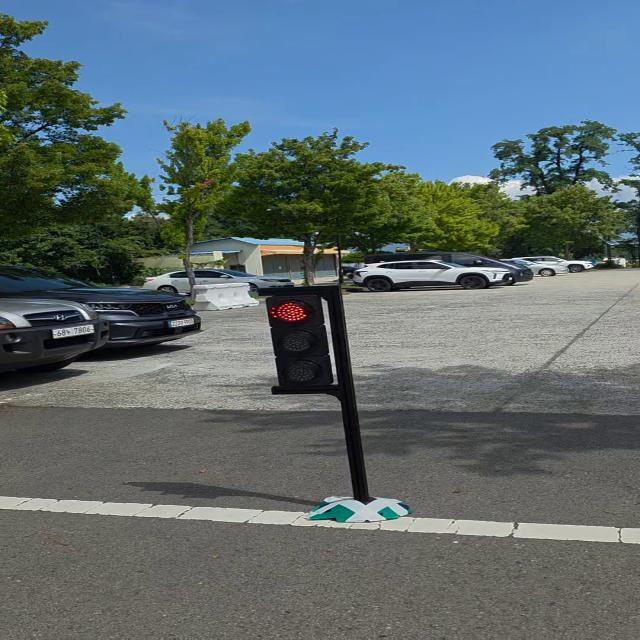red: (255, 288, 364, 400)
